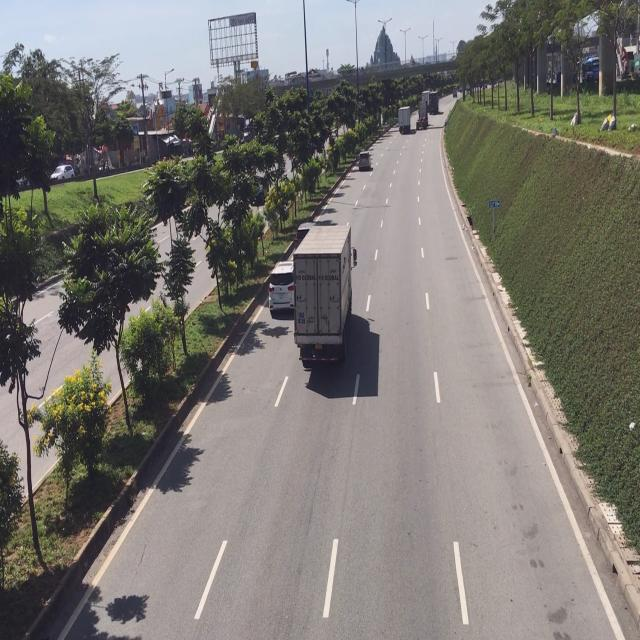car: (268, 258, 295, 311), (356, 150, 372, 173)
truck: (292, 219, 356, 360), (415, 102, 430, 133), (400, 105, 411, 133)
